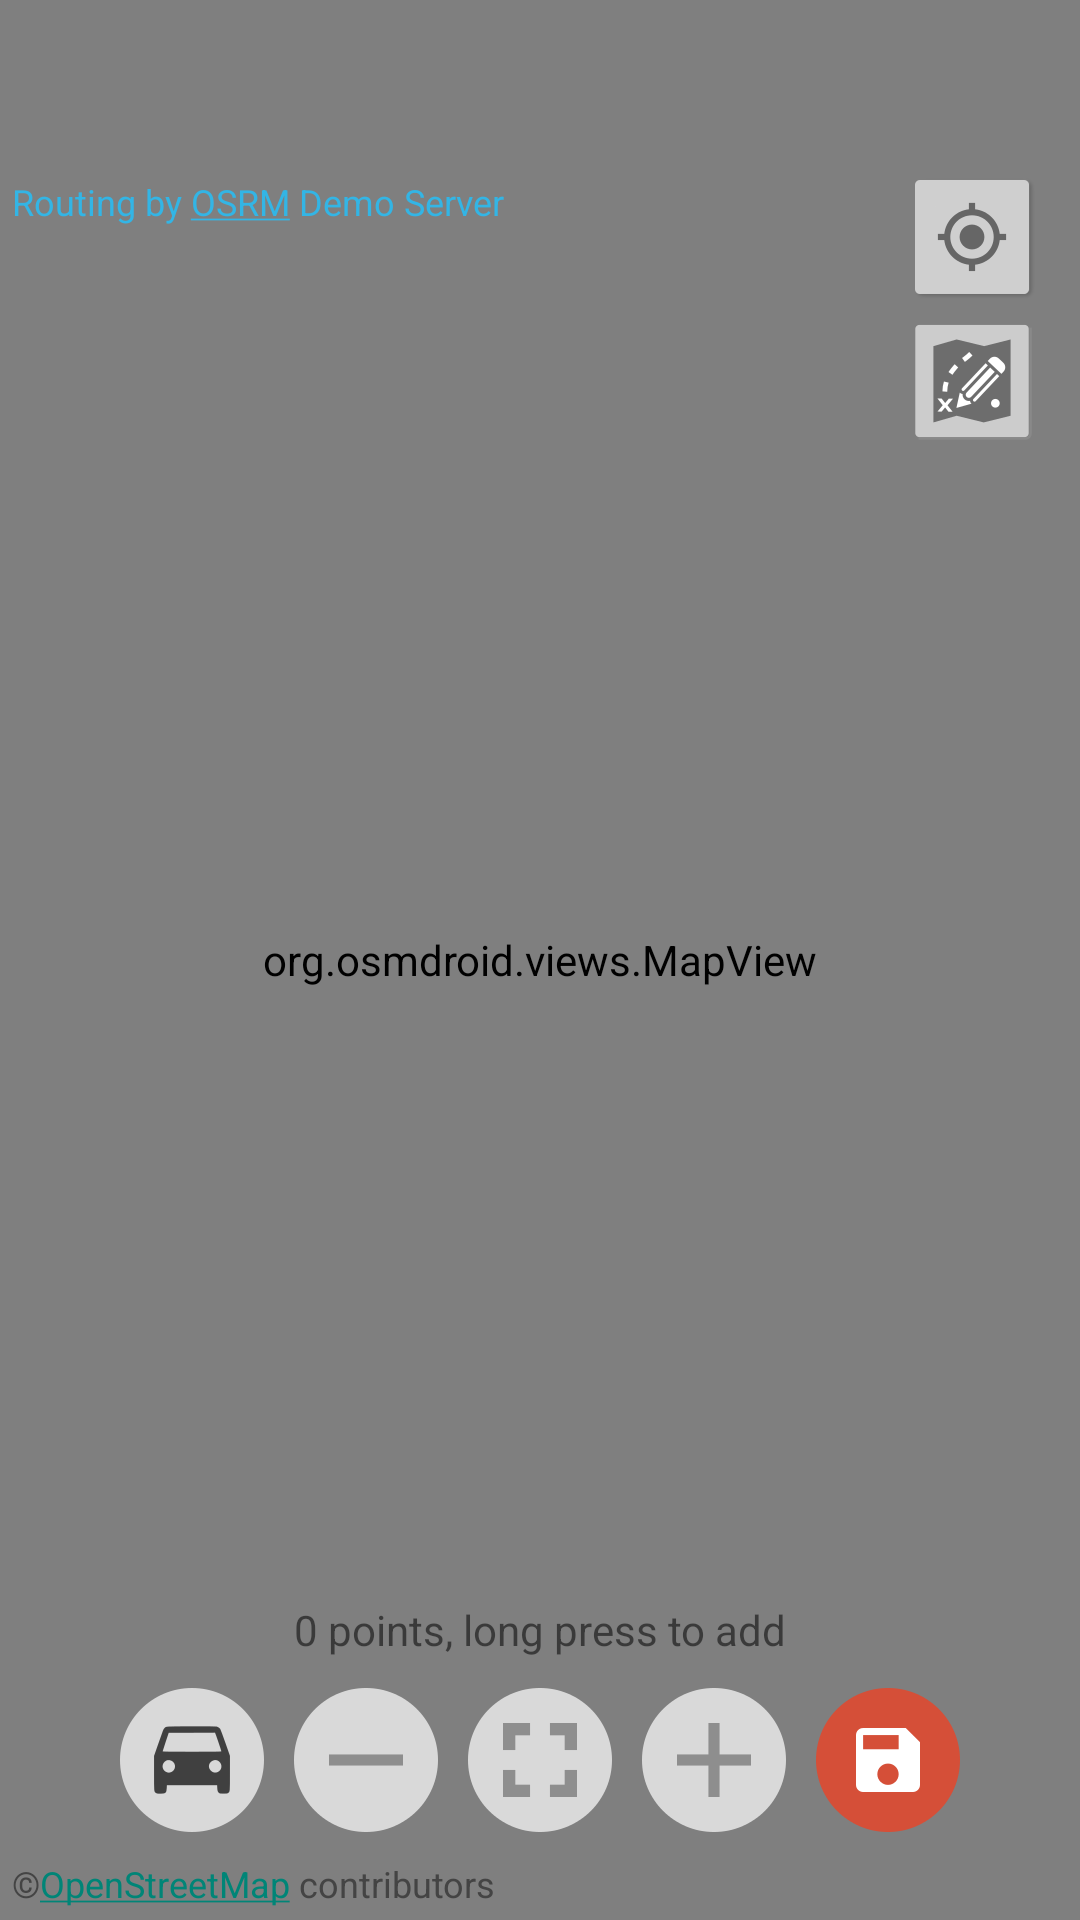

Icons on this 1080px x 1920px Android screen, each with the point to tap as point (x, y):
map fit: point (540, 1760)
map save: point (888, 1760)
map zoom in: point (714, 1760)
map zoom out: point (366, 1760)
